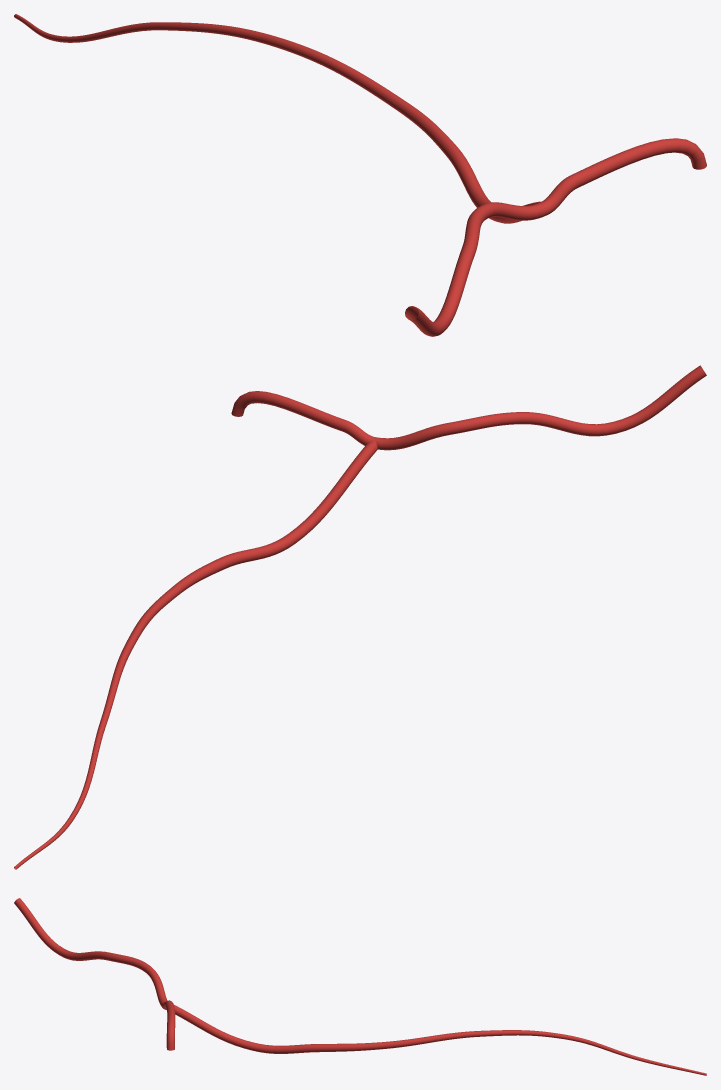
The picture shows the model from 3 angles, top to bottom: view 1: azimuth 30°, elevation 25°; view 2: azimuth 150°, elevation 25°; view 3: azimuth 270°, elevation 25°; orthographic projection. The views are drawn at different scales.
Parts seen in each view (by area): view 1: 右侧阴部外浅动脉; view 2: 右侧阴部外浅动脉; view 3: 右侧阴部外浅动脉.
Part boxes in pixels (x1,y1,x2,y2): 右侧阴部外浅动脉: (14,14,706,336); 右侧阴部外浅动脉: (14,365,706,869); 右侧阴部外浅动脉: (14,898,706,1075).
Bounding box in the file's own units: 0.0706 × 0.0327 × 0.1728.
